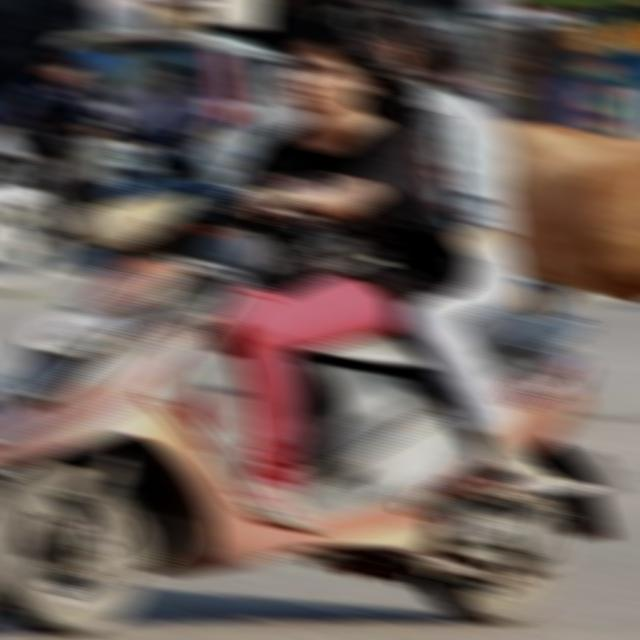Without Helmet: (278, 6, 393, 127)
